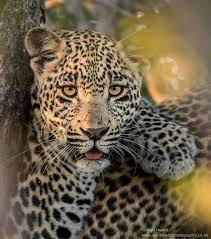leopard: (3, 27, 211, 237)
